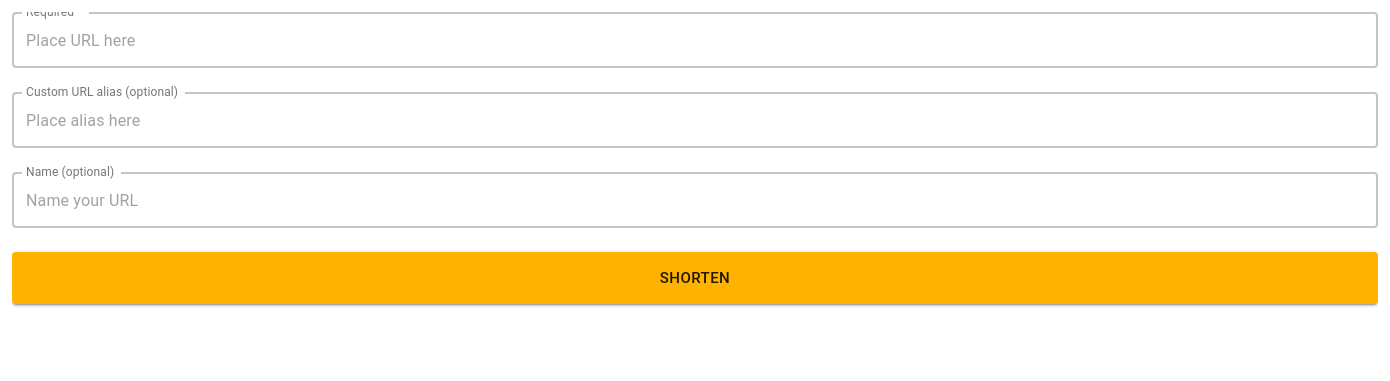
Scenario: UrlShortener component renders loading state initially
Type "url.com" into the field labelled "Place URL here" at (695, 40), box x1=12 y1=12 x2=1378 y2=68
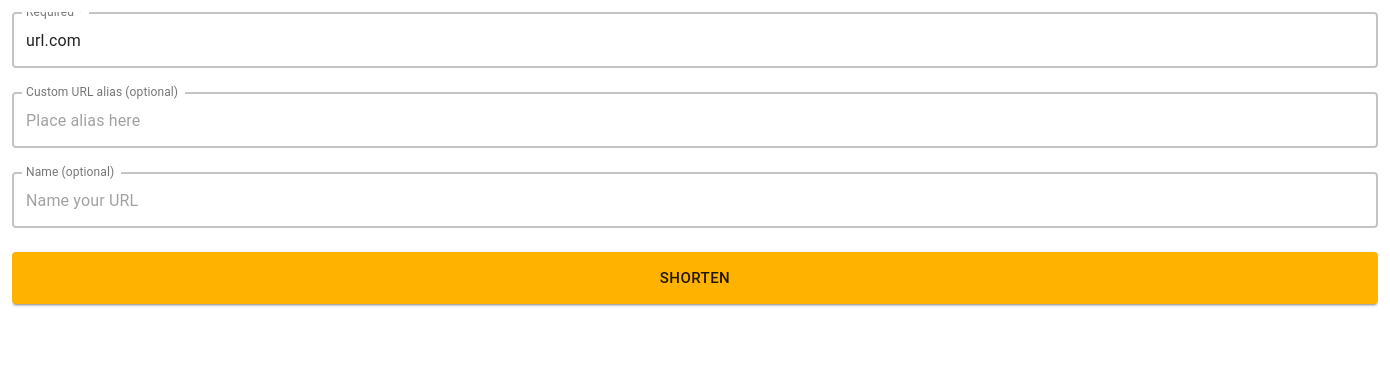
Click the button "Shorten" at (695, 278), box x1=12 y1=252 x2=1378 y2=304
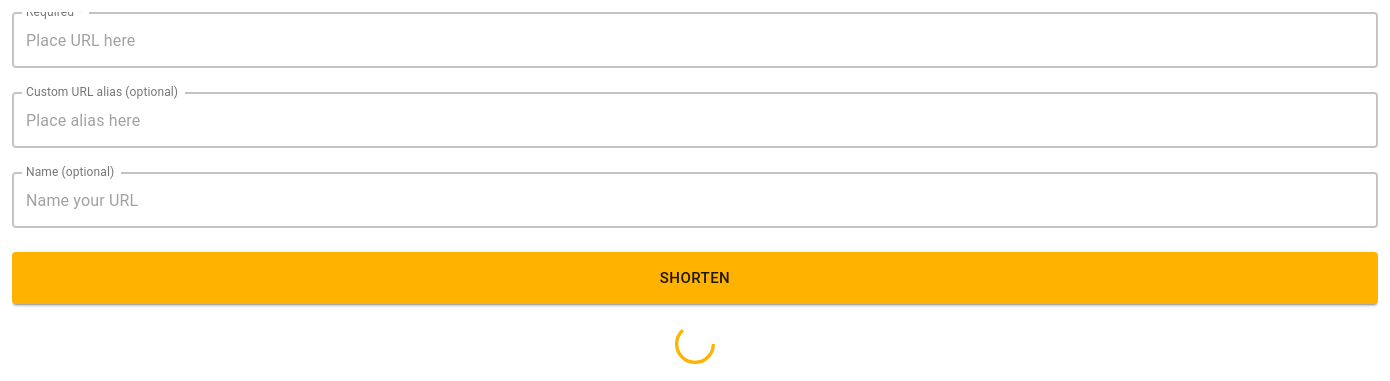
expect the progress indicator is shown: met, box x1=675 y1=324 x2=715 y2=364
